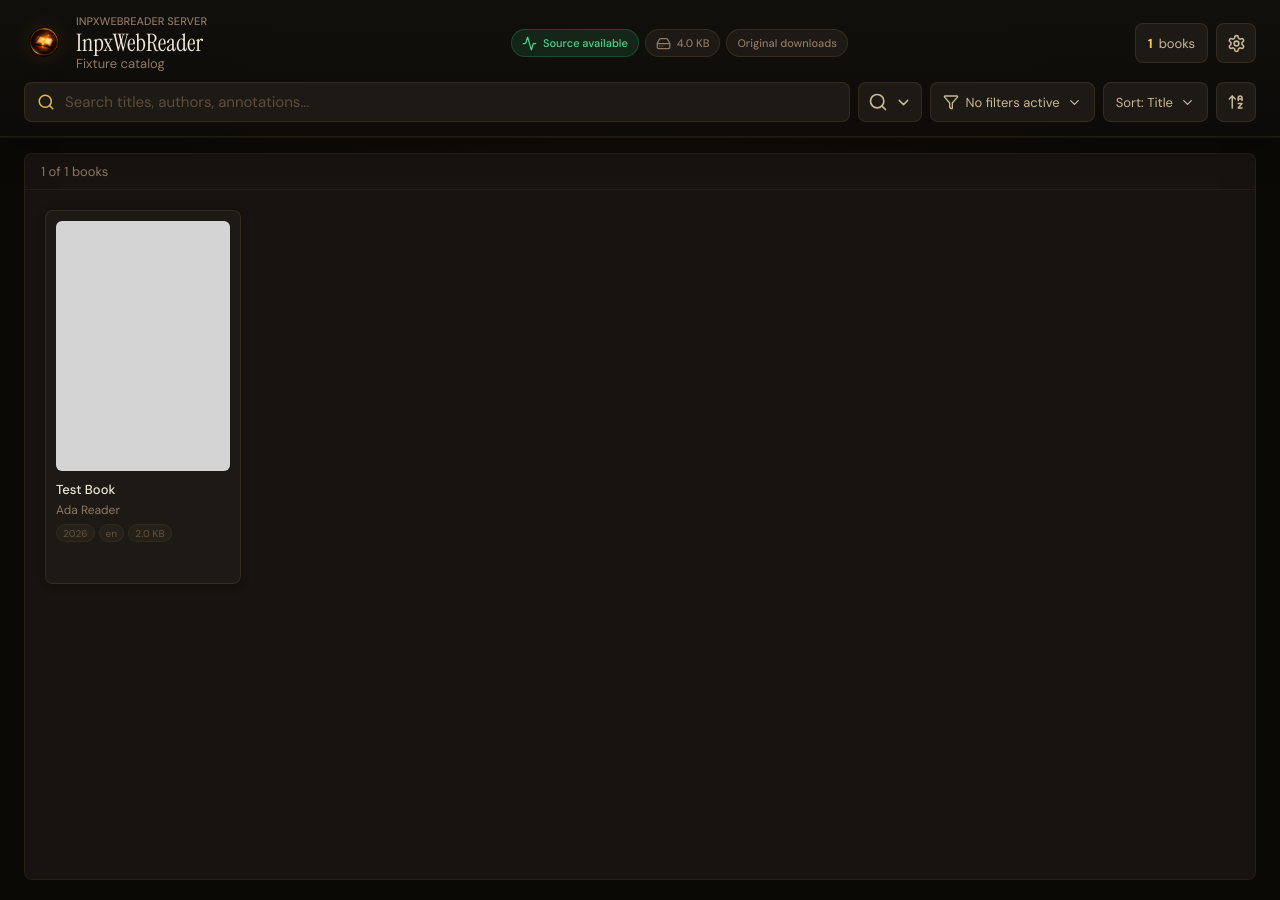
web UI components › keeps open details stable when a pending debounced search commits
Type "Test" into the field named "Search catalog".
click(451, 102); type("Test")  # box [63, 91, 839, 113]
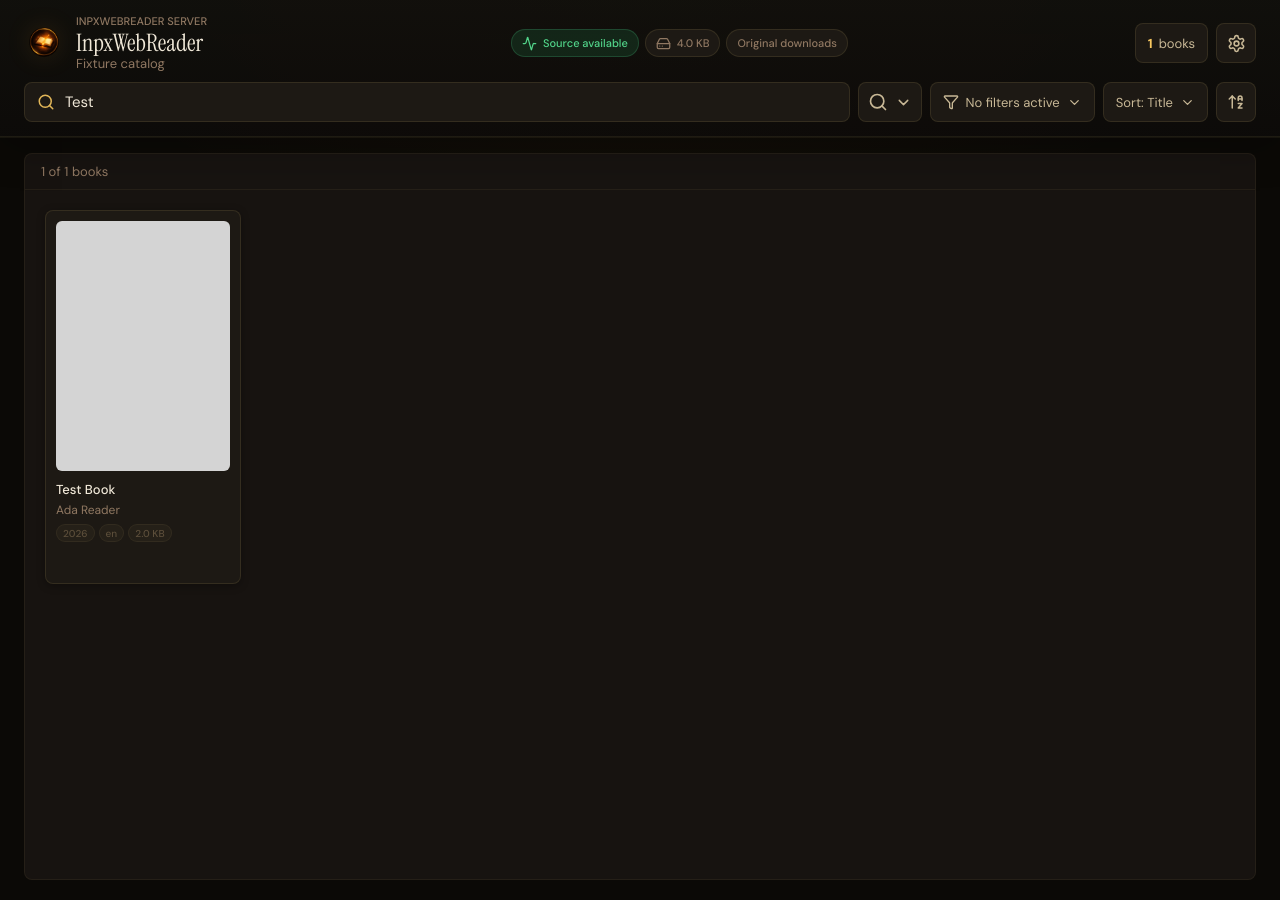
Click the button "Test Book Ada Reader 2026 en 2.0 KB".
click(143, 397)  # box [45, 210, 241, 584]
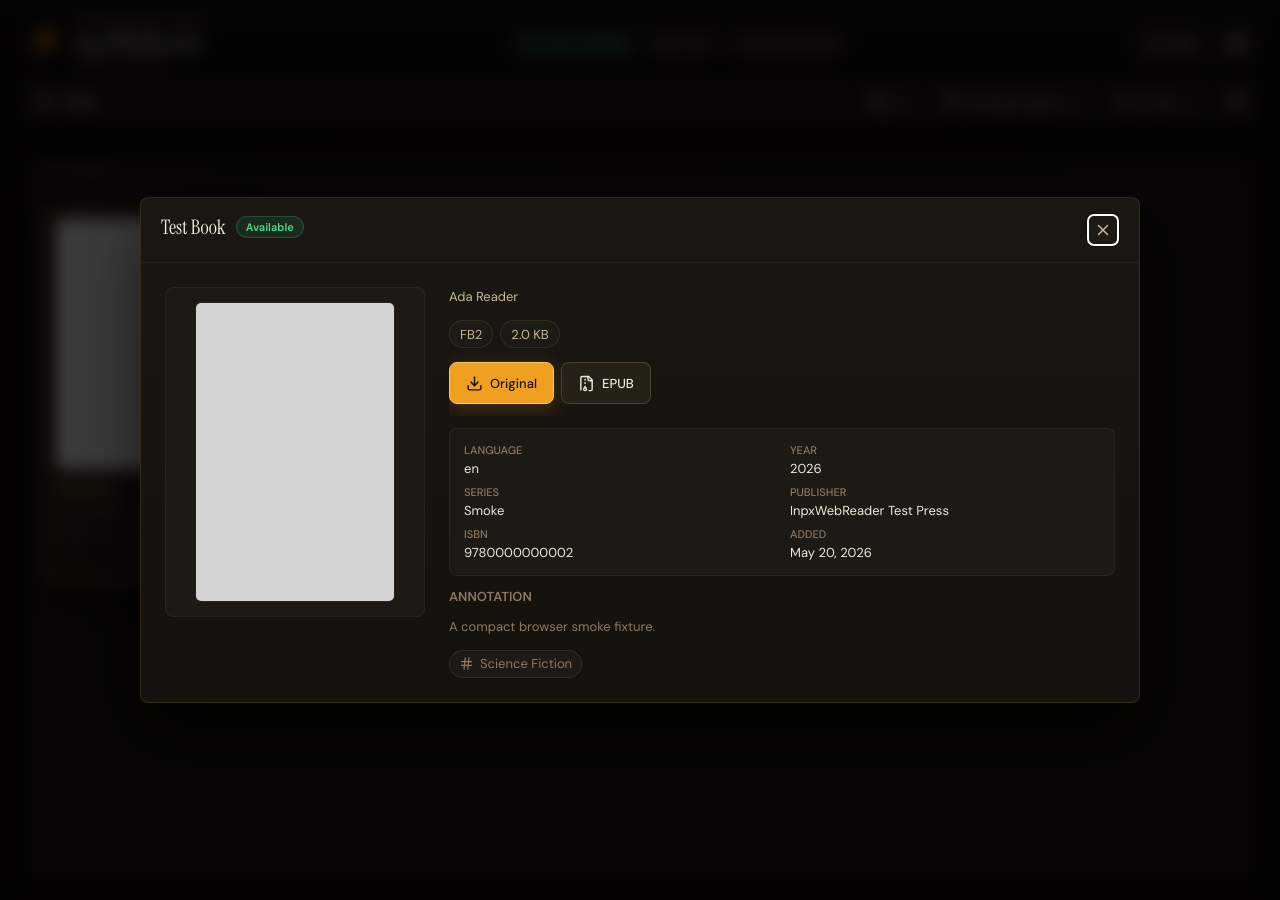
Check: the dialog named "Book details" is shown, box [140, 197, 1140, 703]
Check: the button "Original" is enabled, box [449, 362, 554, 404]
